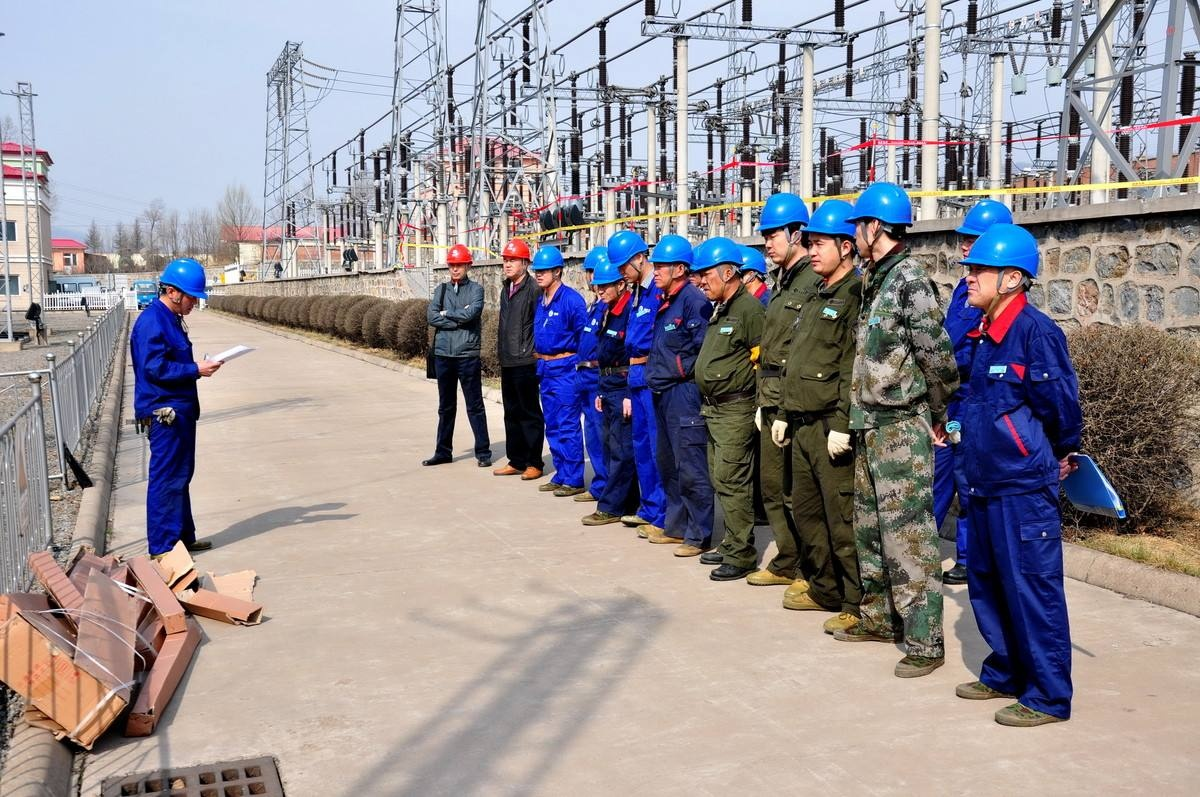blue: (958, 225, 1045, 313), (848, 183, 910, 264), (801, 195, 856, 278), (754, 191, 806, 264), (151, 258, 209, 321), (956, 198, 1012, 258), (692, 237, 742, 303), (647, 235, 692, 289), (605, 227, 646, 285), (530, 242, 565, 292), (589, 260, 622, 308), (736, 245, 769, 292)
red: (445, 242, 473, 285), (500, 239, 529, 280)
